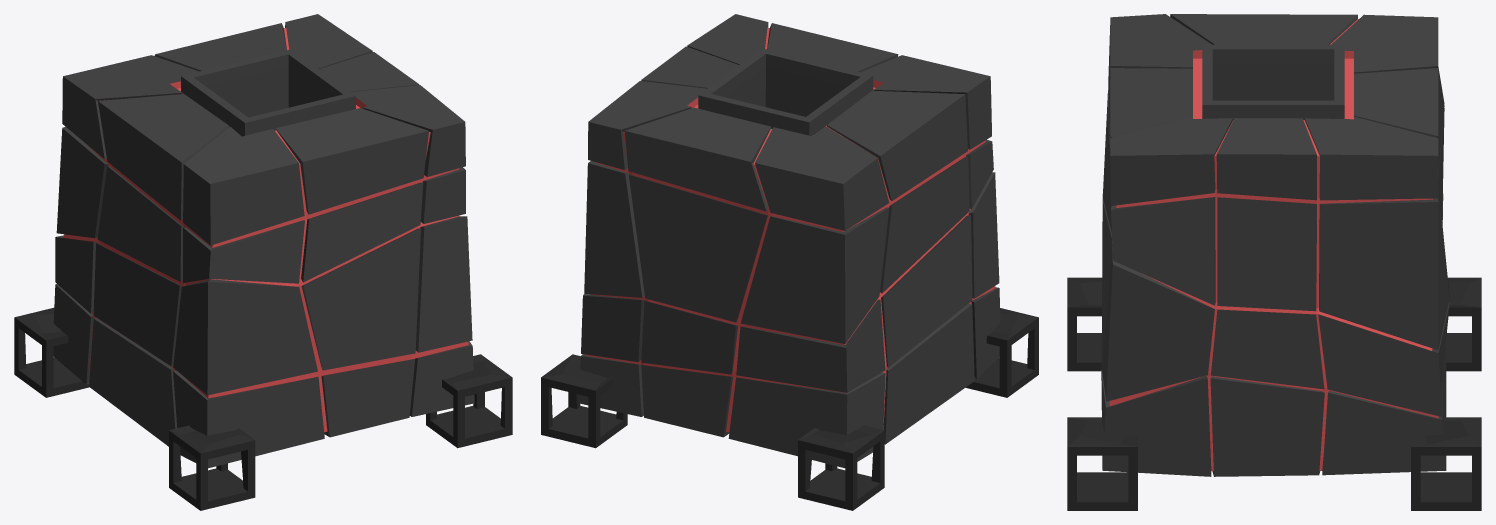
The model's file is fragile_block.fbx.
3 renders of one model, left to right at view 1: azimuth 30°, elevation 25°; view 2: azimuth 150°, elevation 25°; view 3: azimuth 270°, elevation 25°, orthographic. The views are drawn at different scales.
Visible parts, largest first — view 1: Mesh; view 2: Mesh; view 3: Mesh.
Part boxes in pixels (bbox=[...]): Mesh: bbox=[14, 14, 512, 510]; Mesh: bbox=[541, 14, 1038, 510]; Mesh: bbox=[1067, 14, 1481, 510].
Bounding box in the file's own units: 0.927 × 0.9032 × 0.9579.
